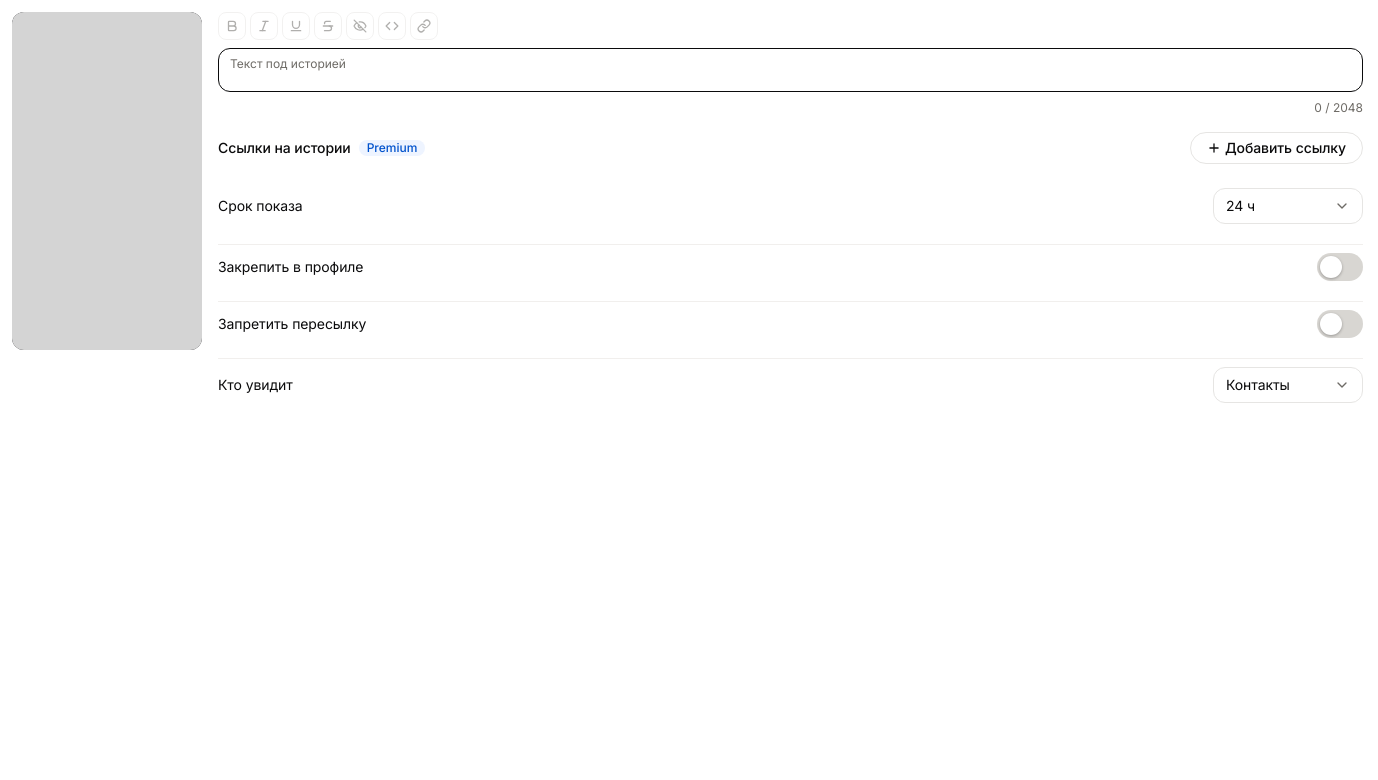
it: the composer shows the bulk counter through its own prop
Click the button "Добавить ссылку" at (1276, 148), box x1=1190 y1=132 x2=1363 y2=164
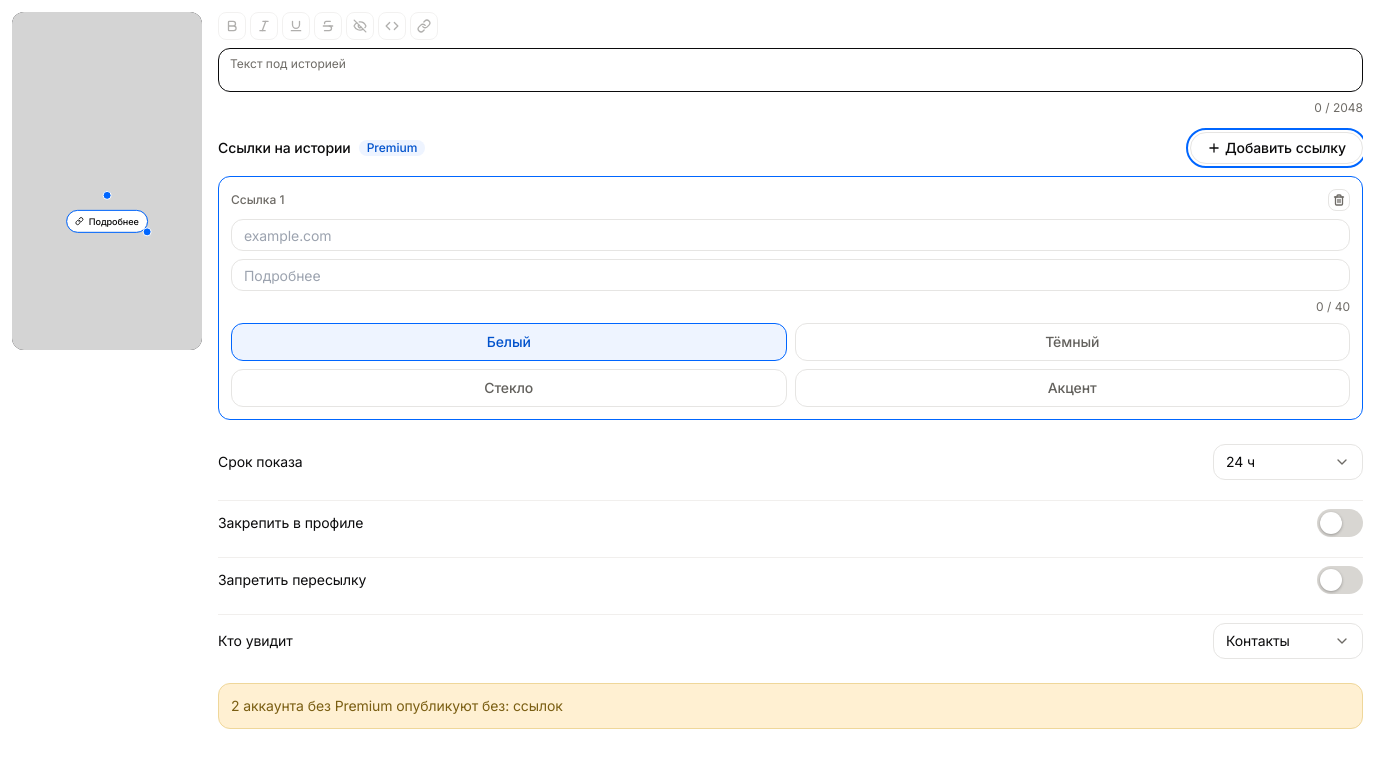
Now the message shows "2 аккаунта без Premium", box x1=231 y1=697 x2=563 y2=714
